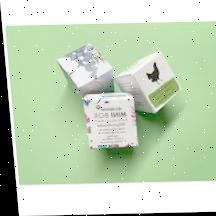cube: (117, 50, 179, 114), (82, 93, 136, 151), (55, 43, 113, 97)
